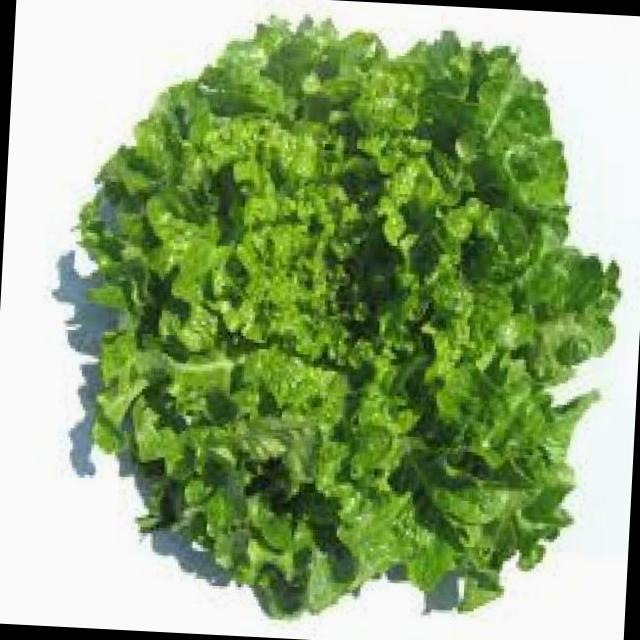Lettuce-Ready-to-Harvest: (82, 19, 618, 614)
